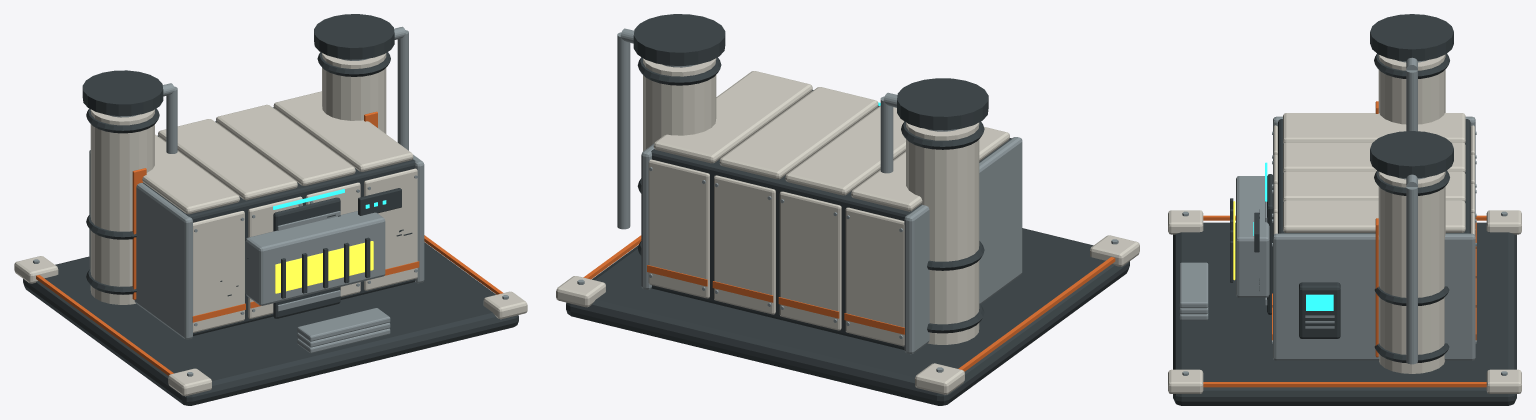
File: SM_Glassworks_Body.fbx
3 views of the same model, side by side, from view 1: azimuth 30°, elevation 25°; view 2: azimuth 150°, elevation 25°; view 3: azimuth 270°, elevation 25° (orthographic). The views are drawn at different scales.
Parts seen in each view (by area): view 1: SM_Glassworks_Body; view 2: SM_Glassworks_Body; view 3: SM_Glassworks_Body.
Part boxes in pixels (x1,y1,x2,y2): SM_Glassworks_Body: [14, 14, 527, 405]; SM_Glassworks_Body: [556, 14, 1139, 405]; SM_Glassworks_Body: [1168, 14, 1521, 405].
Size of the model in its own units: 492 by 422 by 308.
